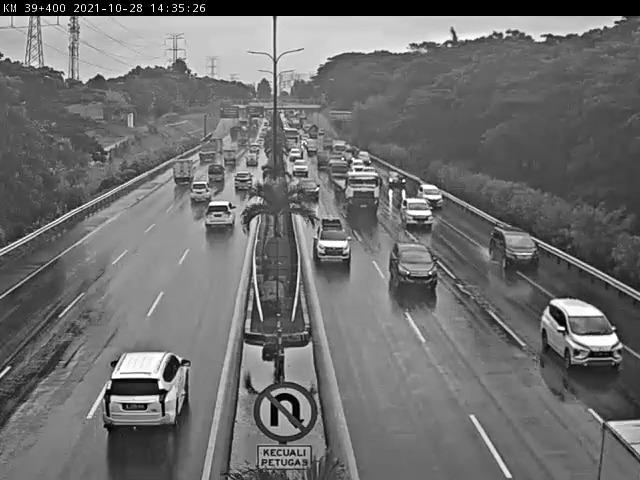big truck: (330, 167, 378, 211)
car: (82, 346, 200, 444), (532, 288, 631, 378), (384, 238, 443, 295), (484, 223, 544, 273), (311, 218, 351, 263), (395, 195, 434, 231), (200, 199, 237, 235), (417, 182, 447, 211), (293, 171, 320, 200), (187, 180, 213, 208), (232, 171, 254, 197)
small truck: (596, 413, 640, 480), (169, 156, 195, 187)
